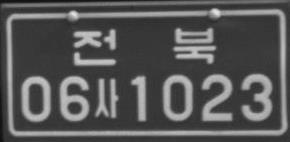0: (162, 74, 194, 121), (20, 74, 51, 122)
1: (126, 75, 153, 121)
2: (201, 73, 232, 121)
3: (241, 72, 273, 121)
6: (58, 75, 90, 121)
사: (93, 78, 120, 117)
전북_D: (73, 27, 216, 64)
